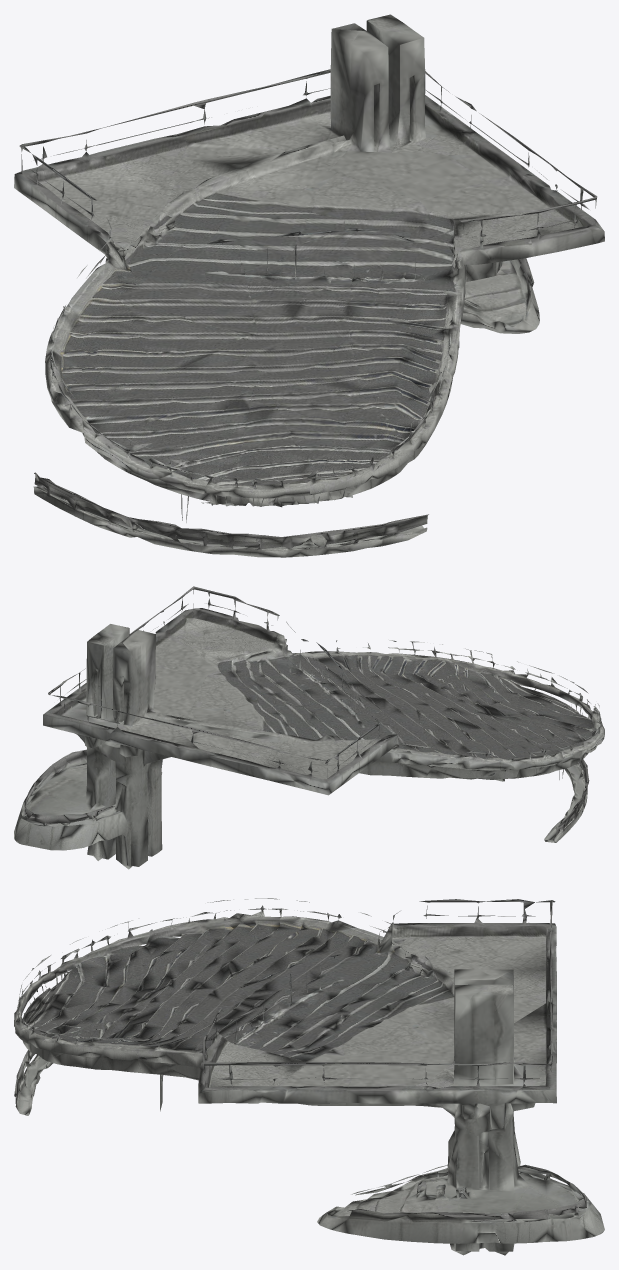
Rendered from overpass.glb.
3 views of the same model, one above another, from view 1: azimuth 30°, elevation 25°; view 2: azimuth 150°, elevation 25°; view 3: azimuth 270°, elevation 25° (orthographic). The views are drawn at different scales.
Size of the model in its own units: 1.89 by 0.9423 by 1.89.
1 material, 1 textured.
